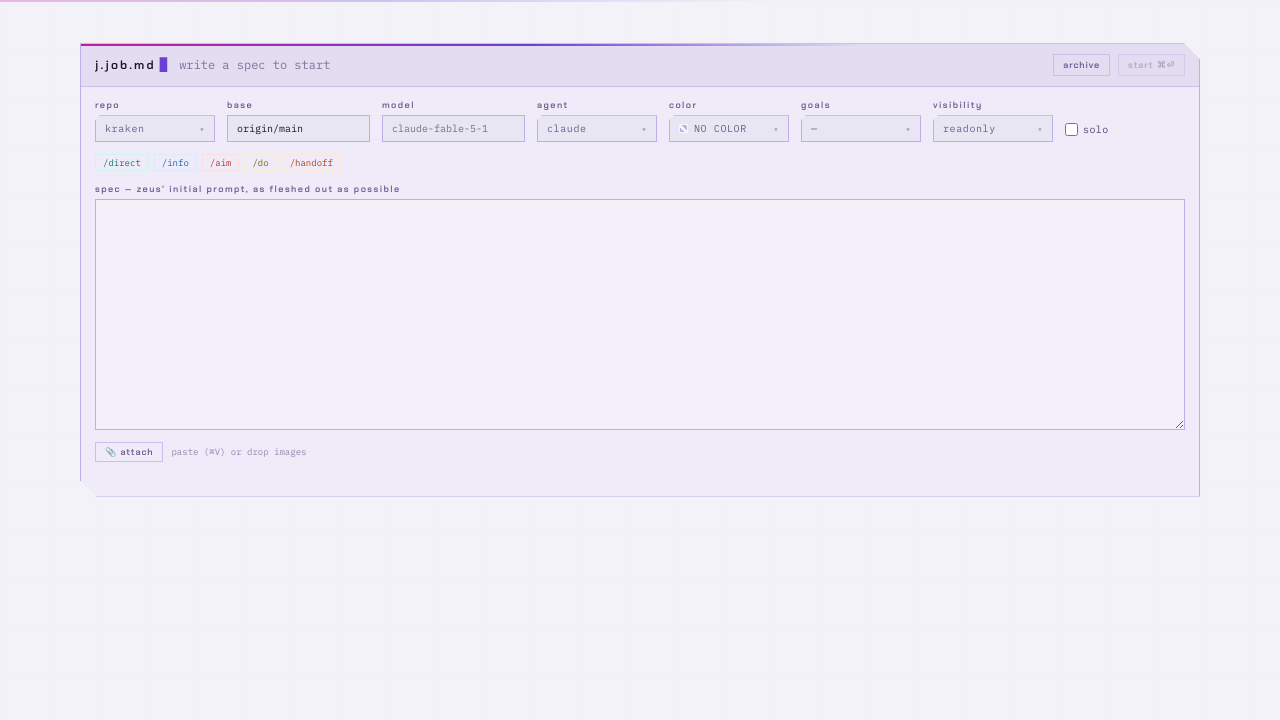
EditorOverlay modes › editable mode fills every field from the form payload
Expected: the field with id "f-base" holds "origin/main", [227,115,370,142]
Expected: the button with id "f-goal" is shown, [801,115,921,142]
# both real checkouts plus the "—" row
What coordinates should you click on to do the following:
click the button with id "f-repo"
I would click on:
 (155, 129)
Its box is [95,115,215,142].
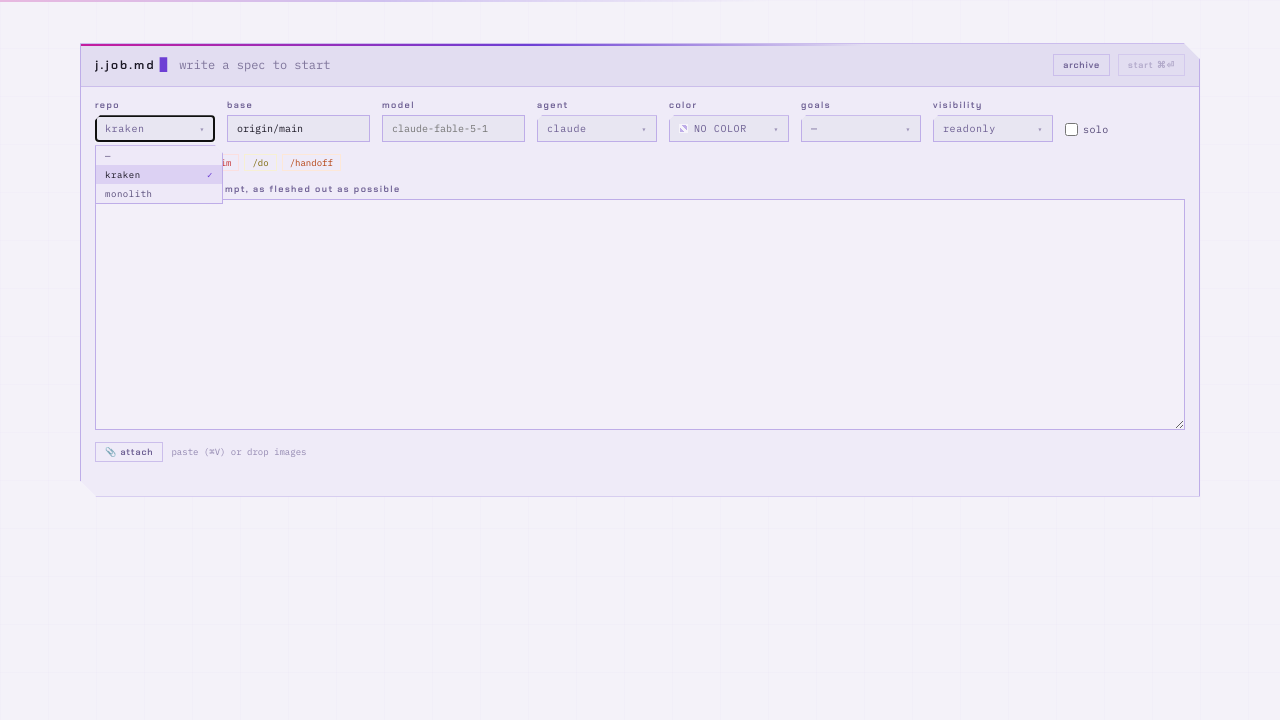
Now the number of options with class "colorsel-row" is 3, box [105,150,111,161]; [96,165,222,184]; [105,188,152,199]
